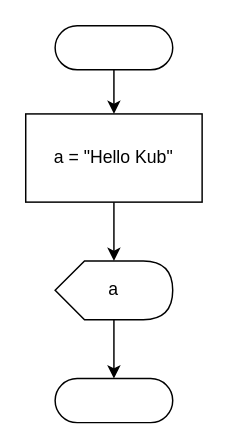
Some shapes in this 228 by 448 pixel diagram are drawn without their labels. Each missing label, with the centre of its shape:
"End" belongs at point 113,400.
"start" belongs at point 113,47.
